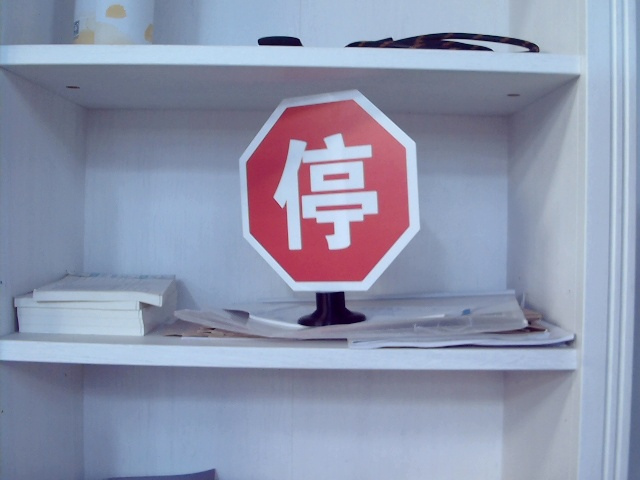stop: (270, 133, 383, 254)
